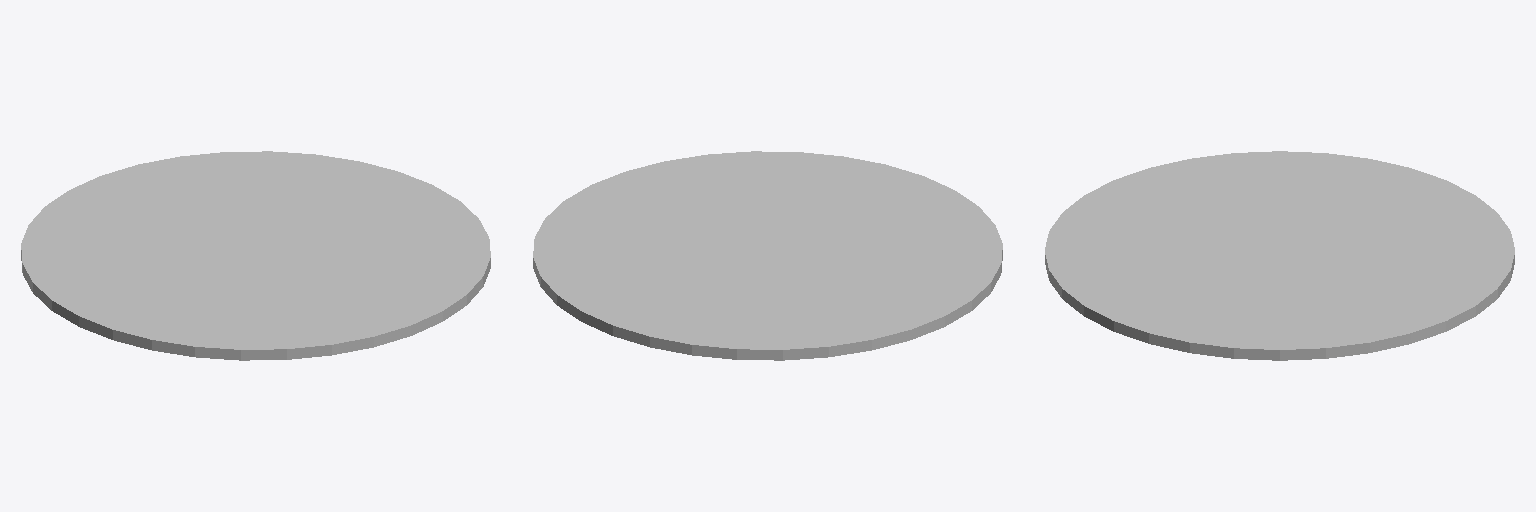
Rendered from lens.obj.
The picture shows the model from 3 angles: view 1: azimuth 30°, elevation 25°; view 2: azimuth 150°, elevation 25°; view 3: azimuth 270°, elevation 25°; orthographic projection.
Parts seen in each view (by area): view 1: Circle; view 2: Circle; view 3: Circle.
Part boxes in pixels (x1,y1,x2,y2): Circle: (21,151,490,360); Circle: (533,151,1002,360); Circle: (1045,151,1514,360).
Size of the model in its own units: 2 by 0.05 by 2.